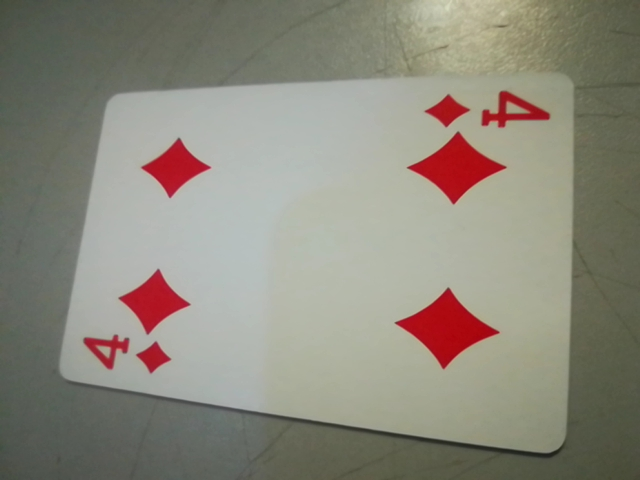fk 4: (416, 90, 561, 135)
